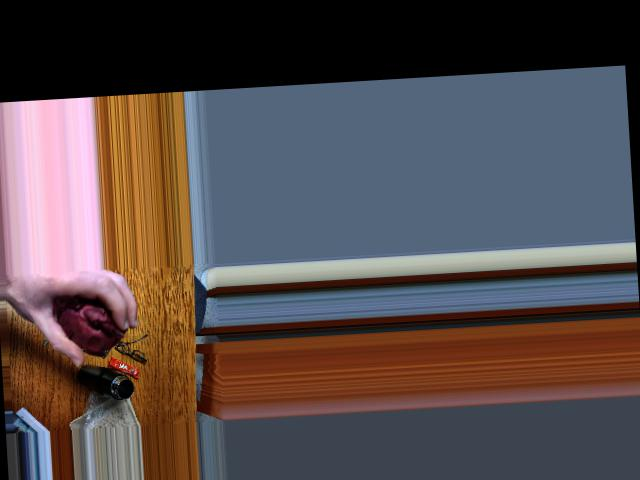onion: (51, 294, 118, 343)
